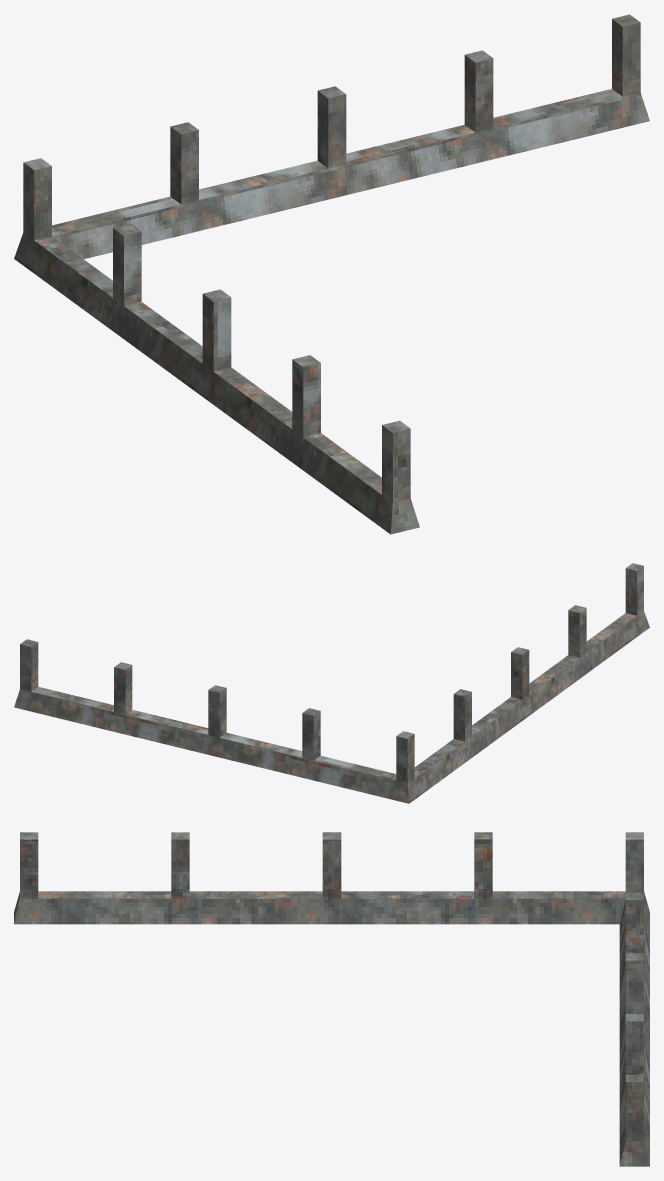
The model's file is SM_CurtainRail.fbx.
3 renders of one model, top to bottom at view 1: azimuth 30°, elevation 25°; view 2: azimuth 150°, elevation 25°; view 3: azimuth 270°, elevation 25°, orthographic. The views are drawn at different scales.
Visible parts, largest first — view 1: SM_CurtainRail; view 2: SM_CurtainRail; view 3: SM_CurtainRail.
Boxes of the visible parts, x1,y1,x2,y2 form: SM_CurtainRail: (14, 14, 649, 534); SM_CurtainRail: (14, 563, 649, 803); SM_CurtainRail: (14, 832, 649, 1166).
Bounding box in the file's own units: 262 × 39.56 × 277.
